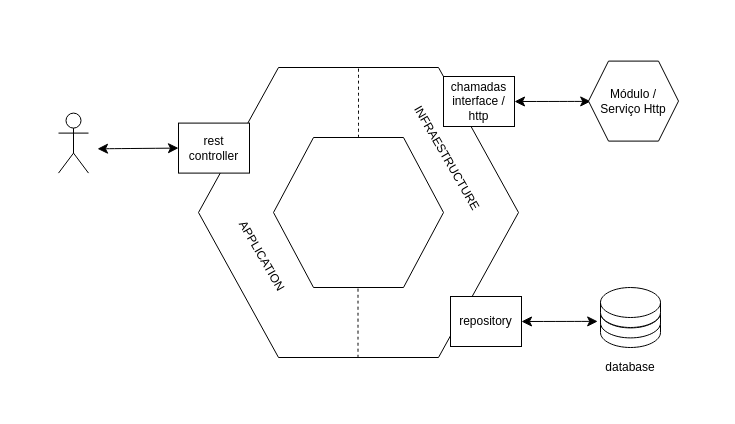
This 735x424 diagram has some shape labels left out. Each missing label, with the box of its shape:
DOMAIN: (272, 136, 444, 288)
Usuário / Sistema: (58, 112, 88, 173)
